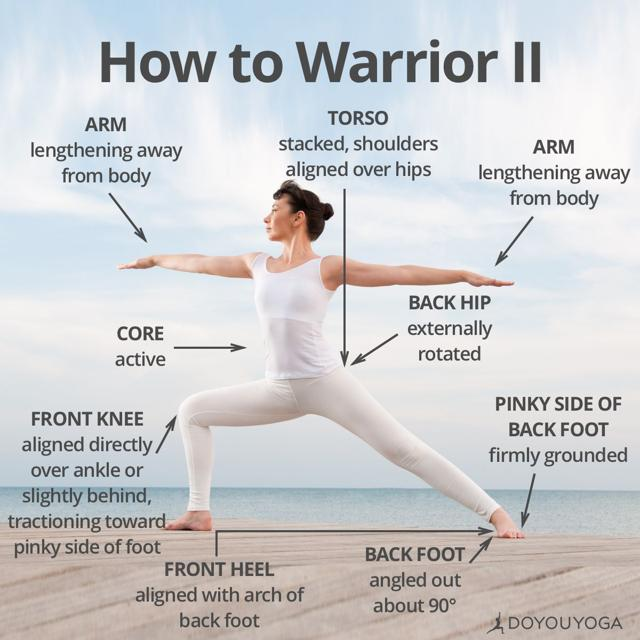Warrior_II: (119, 183, 536, 545)
